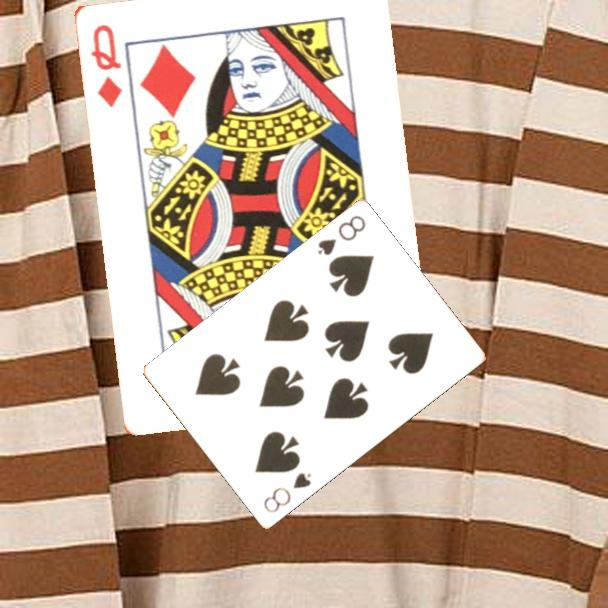d12: (86, 20, 125, 110)
s08: (314, 212, 369, 259), (260, 469, 314, 516)
